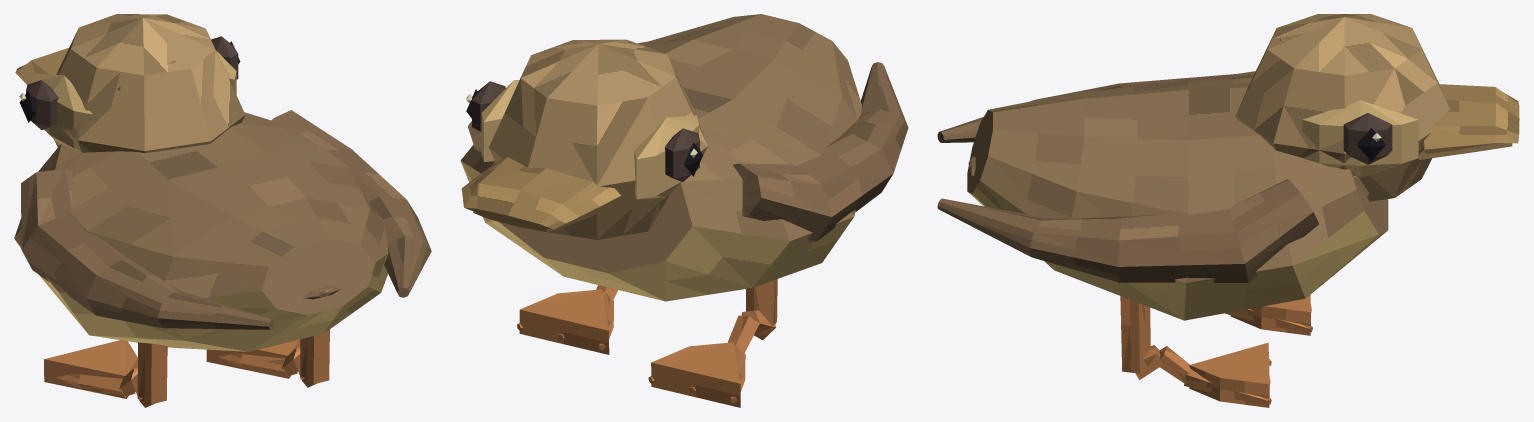
The model's file is mon_duck_chick.glb.
The picture shows the model from 3 angles, left to right: view 1: azimuth 30°, elevation 25°; view 2: azimuth 150°, elevation 25°; view 3: azimuth 270°, elevation 25°; orthographic projection. The views are drawn at different scales.
Parts seen in each view (by area): view 1: closed_body; view 2: closed_body; view 3: closed_body.
Boxes of the visible parts, x1=… form: closed_body: x1=14, y1=14, x2=431, y2=407; closed_body: x1=460, y1=14, x2=908, y2=407; closed_body: x1=937, y1=14, x2=1519, y2=407.
Bounding box in the file's own units: 0.0818 × 0.0745 × 0.1172.
Materials: 1 (1 with a texture image).
